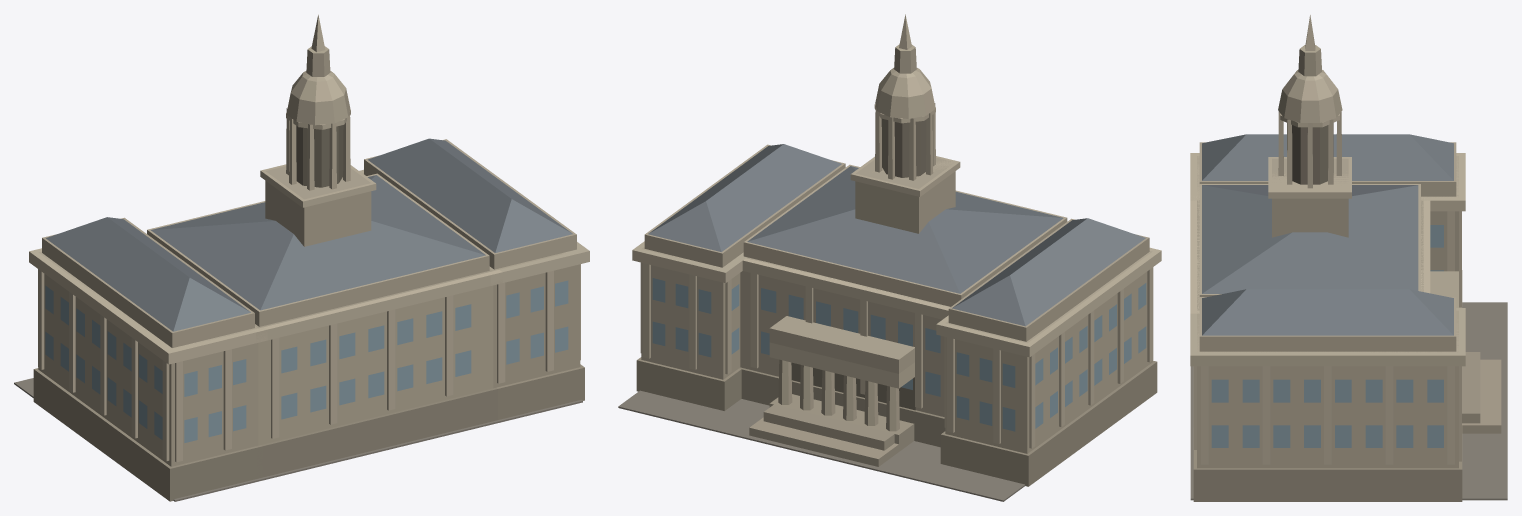
3 renders of one model, left to right at view 1: azimuth 30°, elevation 25°; view 2: azimuth 150°, elevation 25°; view 3: azimuth 270°, elevation 25°, orthographic. The views are drawn at different scales.
Parts seen in each view (by area): view 1: city-hall-lod1; view 2: city-hall-lod1; view 3: city-hall-lod1.
Part boxes in pixels (x1,y1,x2,y2): city-hall-lod1: (14,14,589,501); city-hall-lod1: (618,14,1161,501); city-hall-lod1: (1190,15,1507,501).
Size of the model in its own units: 84.6 by 75.6 by 56.07.
